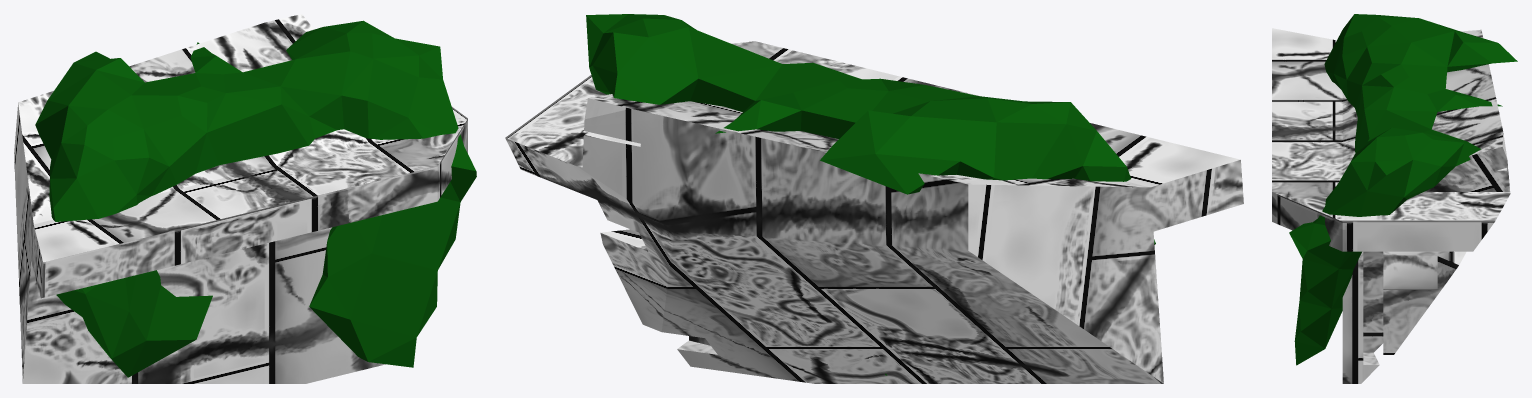
The model's file is building_frag04.fbx.
3 views of the same model, side by side, from view 1: azimuth 30°, elevation 25°; view 2: azimuth 150°, elevation 25°; view 3: azimuth 270°, elevation 25° (orthographic). The views are drawn at different scales.
Parts seen in each view (by area): view 1: building_frag04; view 2: building_frag04; view 3: building_frag04.
Boxes of the visible parts, x1,y1,x2,y2 form: building_frag04: (14, 14, 476, 383); building_frag04: (505, 14, 1243, 383); building_frag04: (1272, 14, 1517, 383).
Size of the model in its own units: 434 by 267 by 232.
